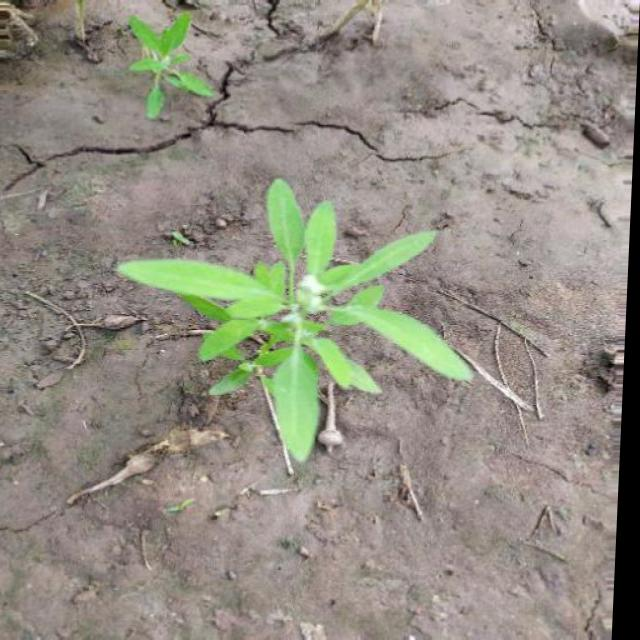weed: (96, 162, 496, 478), (112, 12, 218, 112)
